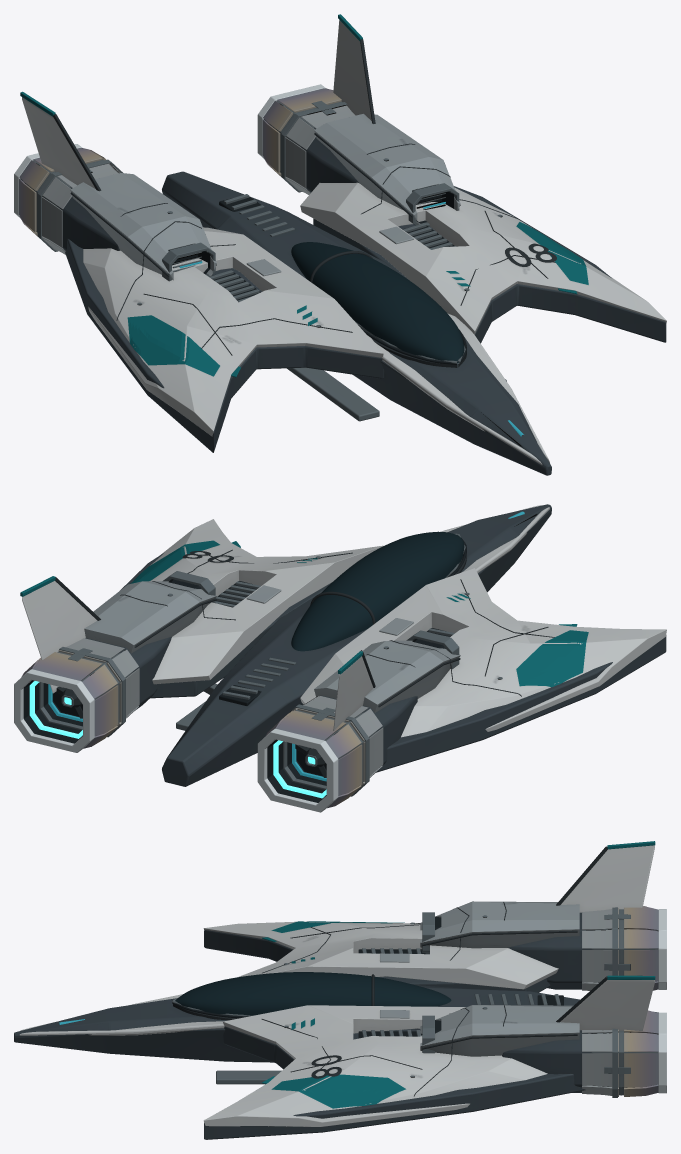
The model's file is shrike.glb.
3 views of the same model, one above another, from view 1: azimuth 30°, elevation 25°; view 2: azimuth 150°, elevation 25°; view 3: azimuth 270°, elevation 25° (orthographic). The views are drawn at different scales.
Visible parts, largest first — view 1: shrike_Ceramic_Geometry, shrike_carbon_Geometry, shrike_CeramicService_Geometry, shrike_Glass_Geometry, shrike_metal_Geometry, shrike_darkmetal_Geometry, shrike_accent_Geometry, shrike_edge_Geometry, shrike_vent_Geometry, shrike_machined_Geometry; view 2: shrike_Ceramic_Geometry, shrike_carbon_Geometry, shrike_CeramicService_Geometry, shrike_metal_Geometry, shrike_Glass_Geometry, shrike_darkmetal_Geometry, shrike_machined_Geometry, shrike_vent_Geometry, shrike_accent_Geometry, shrike_edge_Geometry, shrike_Power_Geometry, shrike_Standby_Geometry; view 3: shrike_Ceramic_Geometry, shrike_carbon_Geometry, shrike_CeramicService_Geometry, shrike_metal_Geometry, shrike_Glass_Geometry, shrike_darkmetal_Geometry, shrike_accent_Geometry, shrike_edge_Geometry, shrike_machined_Geometry, shrike_vent_Geometry.
Part boxes in pixels (left/top/right/bottom): shrike_Ceramic_Geometry: left=22, top=20, right=666, bottom=465; shrike_carbon_Geometry: left=56, top=127, right=666, bottom=475; shrike_CeramicService_Geometry: left=70, top=113, right=460, bottom=280; shrike_Glass_Geometry: left=291, top=242, right=464, bottom=363; shrike_metal_Geometry: left=19, top=88, right=355, bottom=254; shrike_darkmetal_Geometry: left=20, top=101, right=506, bottom=421; shrike_accent_Geometry: left=20, top=14, right=588, bottom=377; shrike_edge_Geometry: left=53, top=39, right=556, bottom=367; shrike_vent_Geometry: left=168, top=185, right=466, bottom=364; shrike_machined_Geometry: left=14, top=84, right=325, bottom=218; shrike_Ceramic_Geometry: left=22, top=505, right=666, bottom=737; shrike_carbon_Geometry: left=85, top=504, right=666, bottom=786; shrike_CeramicService_Geometry: left=84, top=581, right=460, bottom=712; shrike_metal_Geometry: left=21, top=638, right=383, bottom=808; shrike_Glass_Geometry: left=291, top=531, right=464, bottom=651; shrike_darkmetal_Geometry: left=39, top=533, right=502, bottom=796; shrike_machined_Geometry: left=14, top=669, right=338, bottom=812; shrike_vent_Geometry: left=23, top=537, right=466, bottom=802; shrike_accent_Geometry: left=20, top=540, right=588, bottom=687; shrike_edge_Geometry: left=55, top=549, right=554, bottom=777; shrike_Power_Geometry: left=29, top=681, right=326, bottom=798; shrike_Standby_Geometry: left=48, top=511, right=524, bottom=781; shrike_Ceramic_Geometry: left=19, top=845, right=654, bottom=1126; shrike_carbon_Geometry: left=14, top=912, right=658, bottom=1139; shrike_CeramicService_Geometry: left=380, top=901, right=579, bottom=1056; shrike_metal_Geometry: left=582, top=906, right=658, bottom=1096; shrike_Glass_Geometry: left=175, top=972, right=451, bottom=1015; shrike_darkmetal_Geometry: left=172, top=907, right=658, bottom=1097; shrike_accent_Geometry: left=262, top=841, right=655, bottom=1108; shrike_edge_Geometry: left=173, top=846, right=607, bottom=1096; shrike_machined_Geometry: left=658, top=909, right=666, bottom=1093; shrike_vent_Geometry: left=172, top=916, right=563, bottom=1038.
Bounding box in the file's own units: 4.28 × 1.51 × 6.14.
12 materials, 5 textured.
